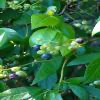Blueberry leaf: (0, 86, 52, 99), (29, 25, 57, 48), (32, 11, 61, 29), (0, 27, 27, 45), (80, 57, 100, 79), (68, 53, 98, 67)
